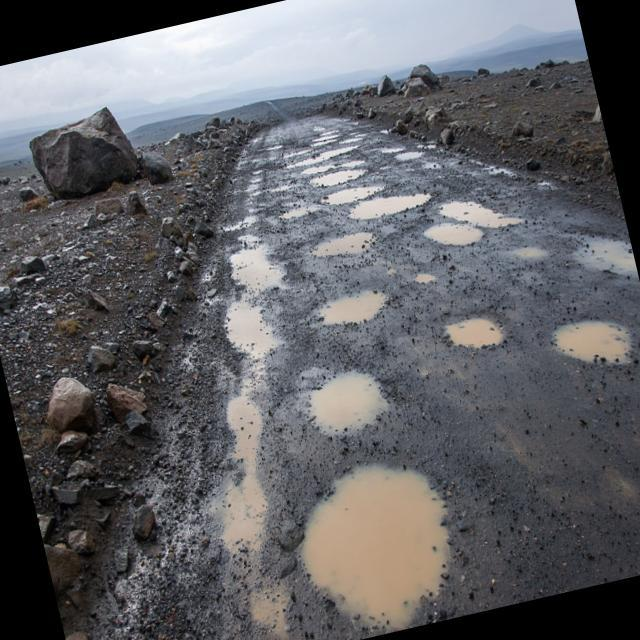Pothole: (178, 183, 344, 558), (280, 430, 490, 638), (548, 208, 640, 308), (308, 268, 411, 350), (282, 349, 378, 432), (538, 303, 630, 383), (441, 189, 527, 268), (421, 204, 499, 280), (424, 306, 523, 364), (333, 181, 440, 227), (302, 212, 398, 262), (408, 255, 462, 308), (327, 174, 395, 206), (290, 148, 346, 186), (310, 154, 375, 186), (242, 168, 287, 204), (372, 138, 420, 168), (386, 144, 434, 170), (286, 139, 335, 163), (259, 172, 294, 196), (276, 204, 310, 227), (428, 158, 462, 178)
